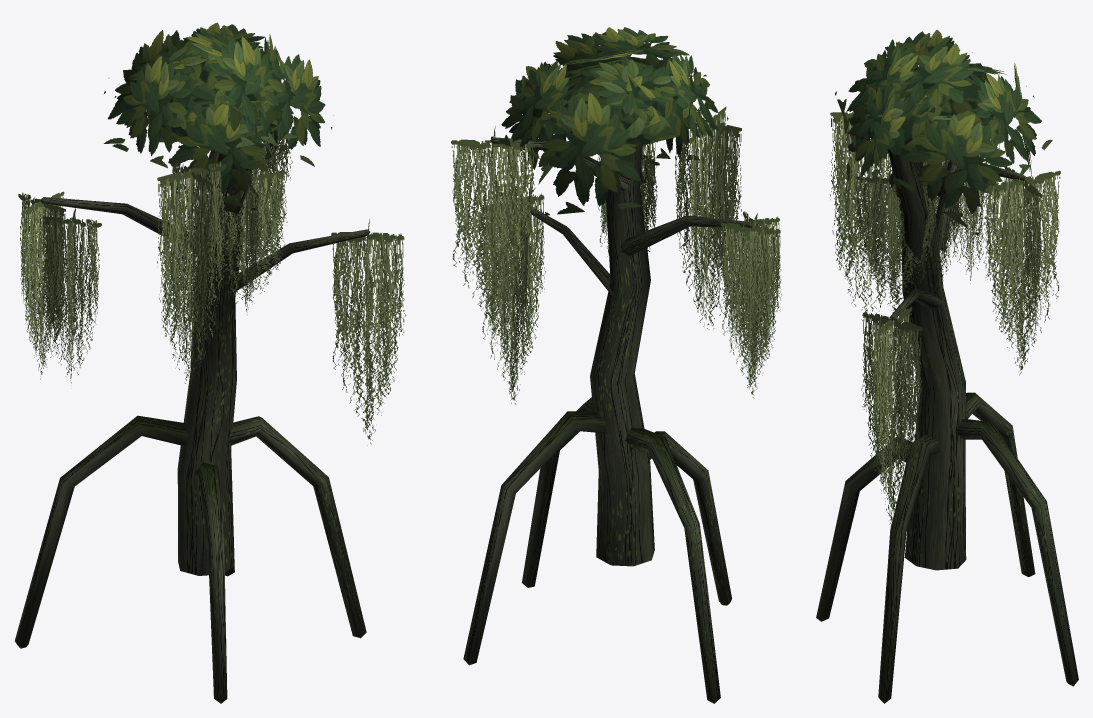
The model's file is mirewell_bog_tree_c.glb.
3 views of the same model, side by side, from view 1: azimuth 30°, elevation 25°; view 2: azimuth 150°, elevation 25°; view 3: azimuth 270°, elevation 25° (orthographic). The views are drawn at different scales.
Parts seen in each view (by area): view 1: mirewell_bog_tree_c; view 2: mirewell_bog_tree_c; view 3: mirewell_bog_tree_c.
Part boxes in pixels (<box>): mirewell_bog_tree_c: <box>15,22,406,703</box>; mirewell_bog_tree_c: <box>451,27,782,703</box>; mirewell_bog_tree_c: <box>816,30,1078,703</box>.
Size of the model in its own units: 2.27 by 3.9 by 1.51.
Materials: 3 (3 with a texture image).
